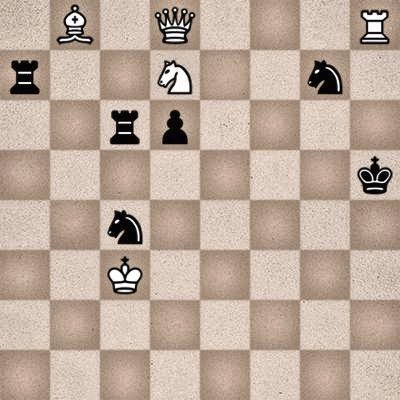black-king: (350, 150, 400, 200)
black-knight: (300, 50, 350, 100), (100, 200, 150, 250)
black-pawn: (150, 100, 200, 150)
black-rook: (0, 50, 50, 100), (100, 100, 150, 150)
white-bishop: (50, 0, 100, 50)
white-king: (100, 250, 150, 300)
white-knight: (150, 50, 200, 100)
white-queen: (150, 0, 200, 50)
white-rook: (350, 0, 400, 50)
